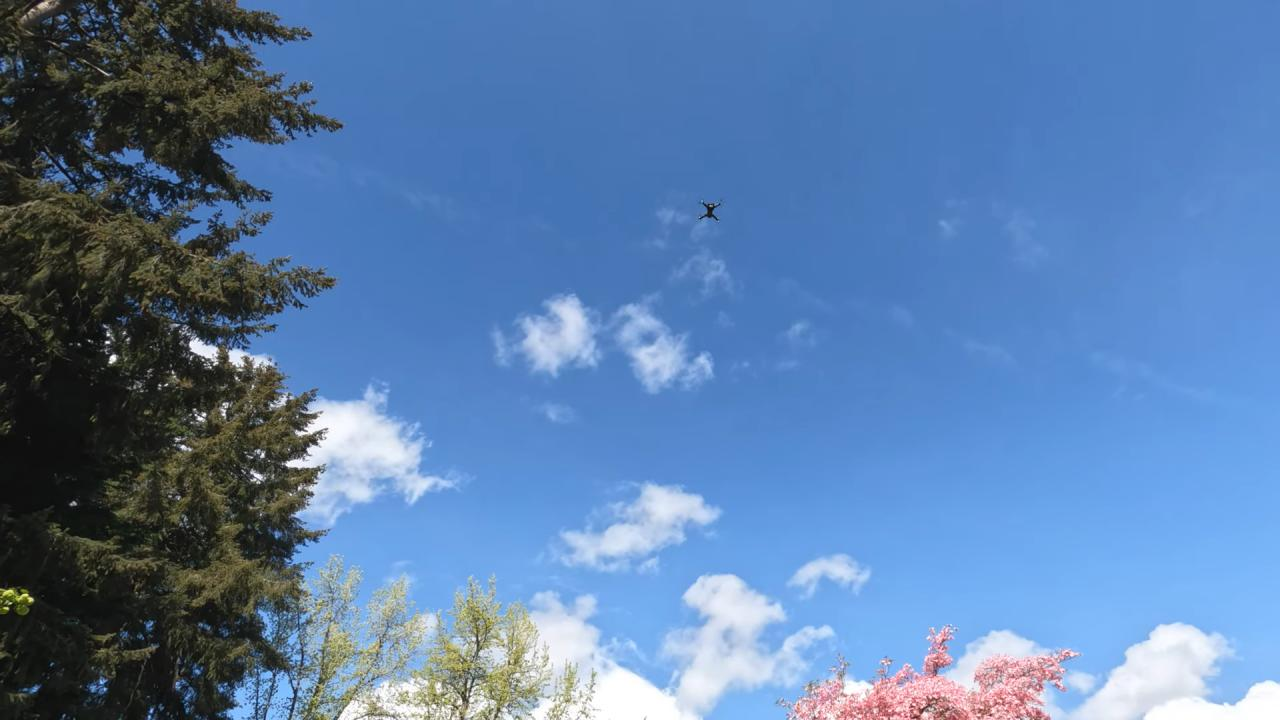Drone: (683, 186, 740, 238)
